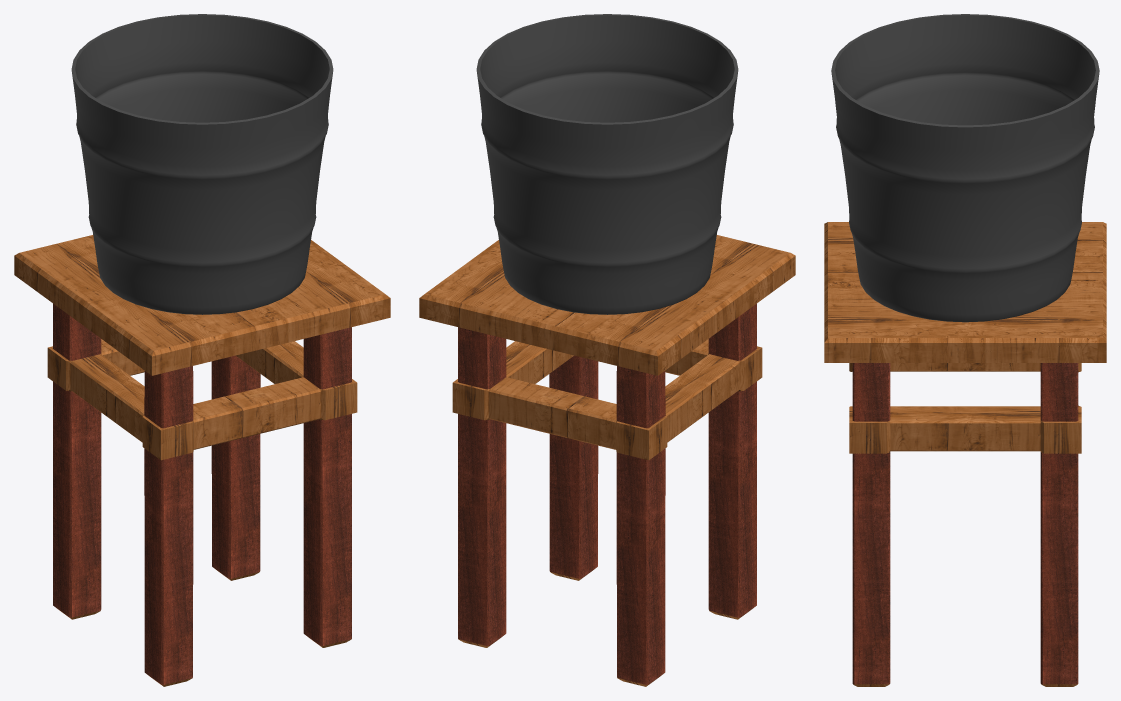
File: Haz_ChairBucket.FBX
The picture shows the model from 3 angles, left to right: view 1: azimuth 30°, elevation 25°; view 2: azimuth 150°, elevation 25°; view 3: azimuth 270°, elevation 25°; orthographic projection. The views are drawn at different scales.
Visible parts, largest first — view 1: Box001, Cylinder001; view 2: Box001, Cylinder001; view 3: Cylinder001, Box001.
Boxes of the visible parts, x1,y1,x2,y2 form: Box001: (14,235,390,686); Cylinder001: (71,14,333,314); Box001: (419,235,795,686); Cylinder001: (476,14,738,314); Cylinder001: (831,14,1099,322); Box001: (824,222,1106,686).
Size of the model in its own units: 15 by 33.48 by 15.
Materials: 3 (2 with a texture image).
